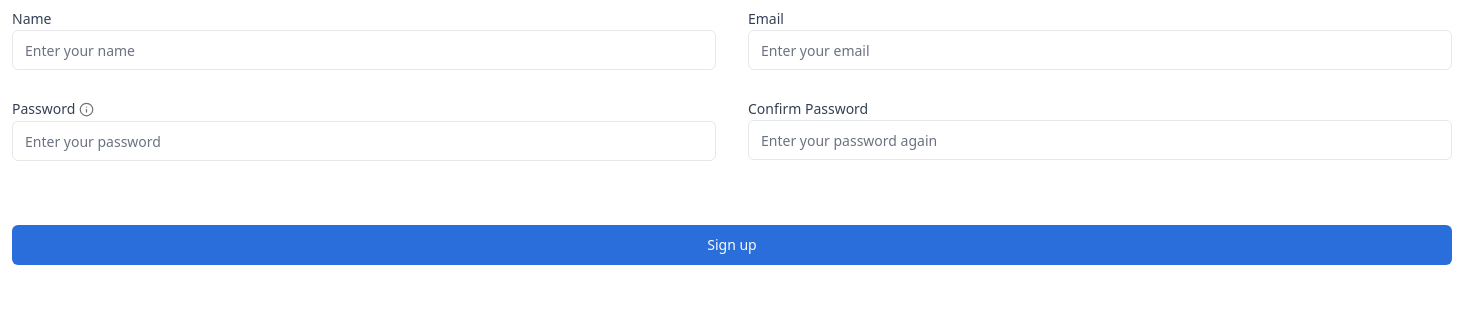
Test: Register Component: › form submission fails without reCAPTCHA
Step 1. Type "Test User" into the field labelled "Name" → (364, 50), box [12, 30, 716, 70]
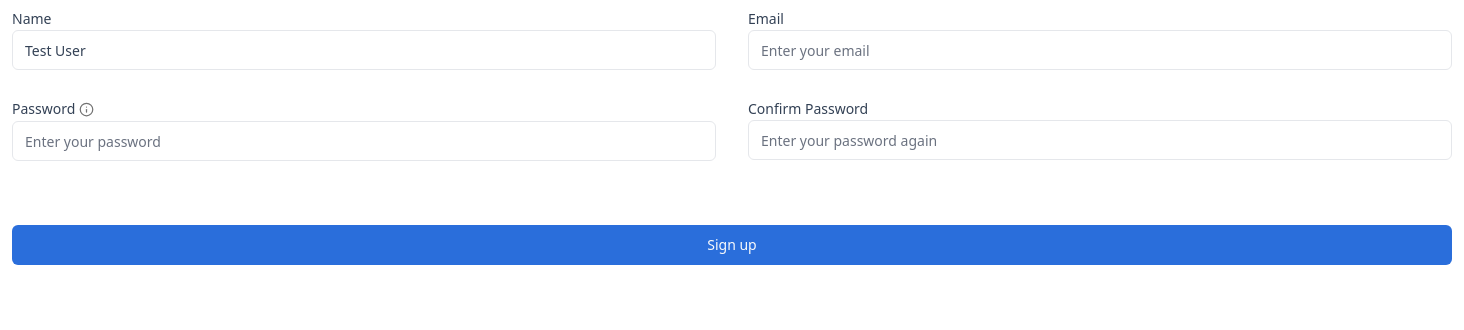
Step 2. Type "test@example.com" into the field labelled "Email" → (1100, 50), box [748, 30, 1452, 70]
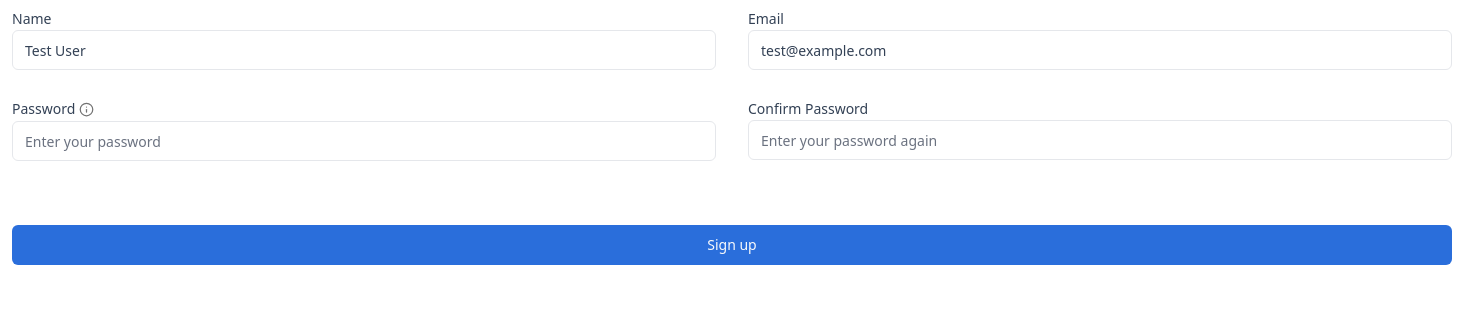
Step 3. Type "password" into the password field with test id "password" → (364, 141), box [12, 121, 716, 161]
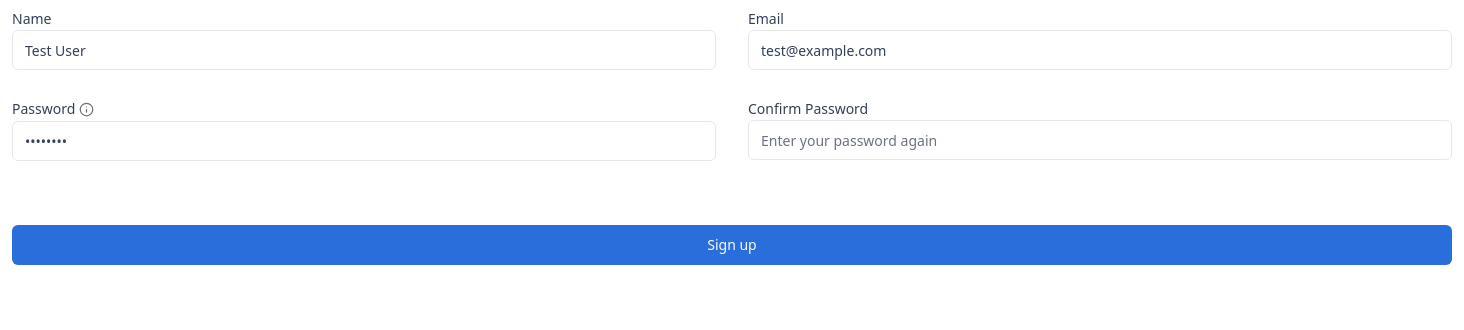
Step 4. Type "password" into the password field labelled "Confirm Password" → (1100, 140), box [748, 120, 1452, 160]
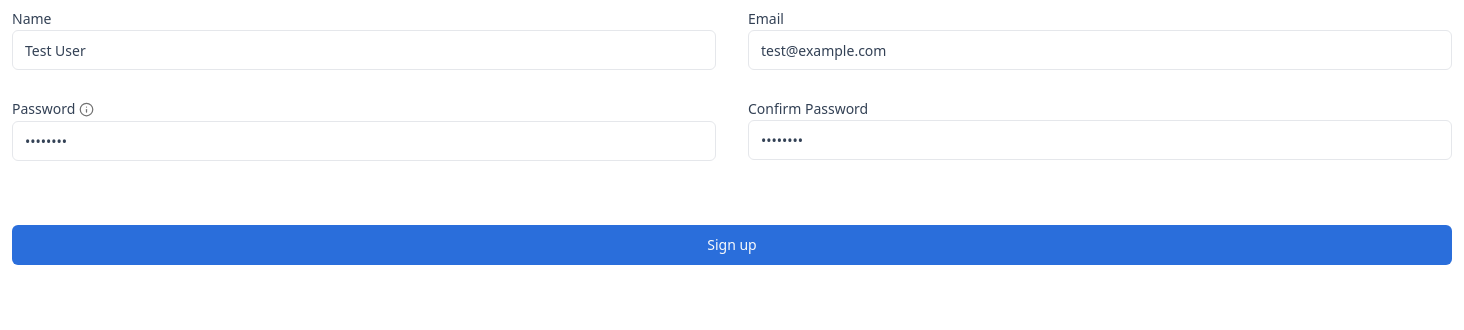
Step 5. Submit the form from the button "Sign up", box [12, 225, 1452, 265]
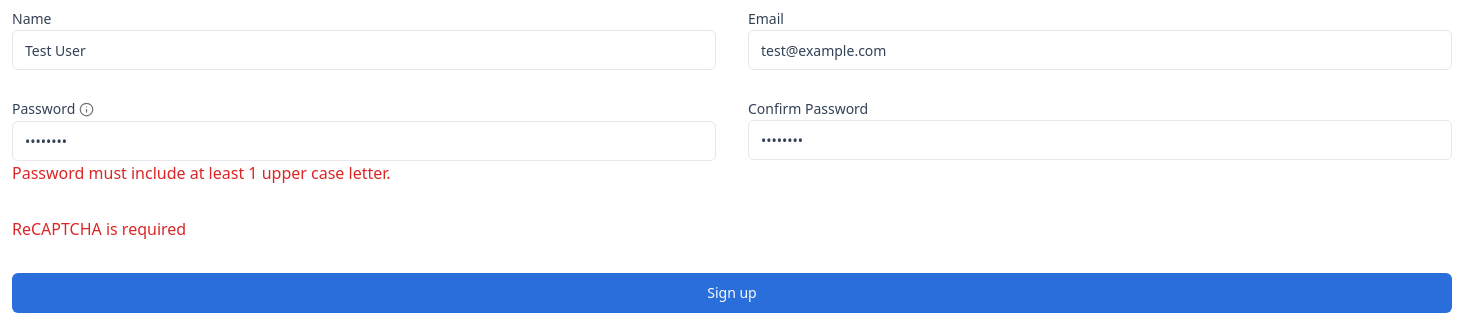
Now the text "ReCAPTCHA is required" is shown, box [12, 218, 186, 240]
